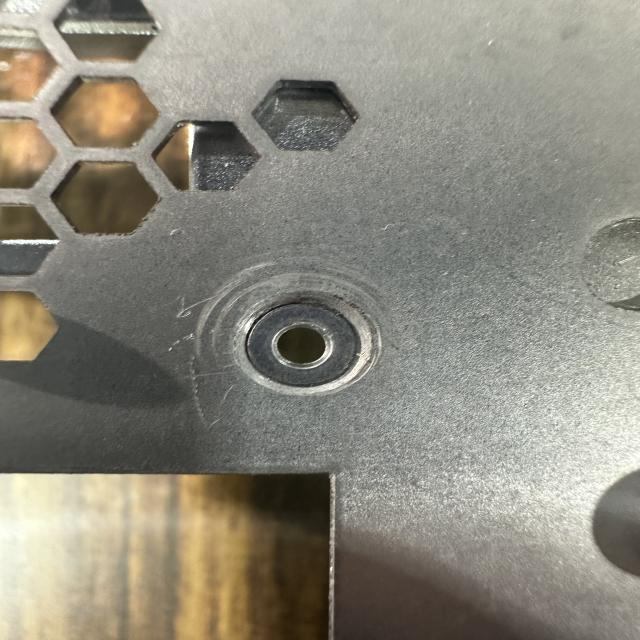Missing screw: (230, 290, 384, 400)
